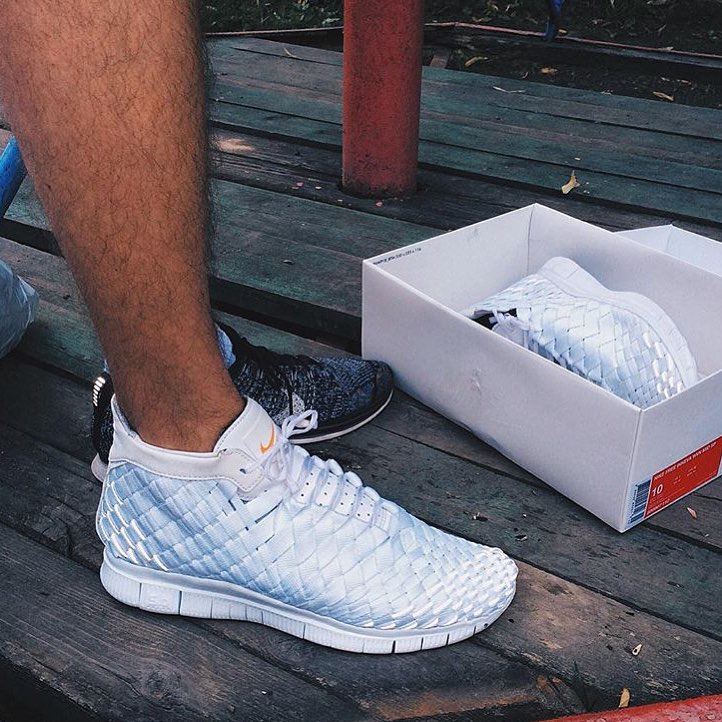sneaker: (78, 349, 546, 680), (70, 303, 417, 468)
